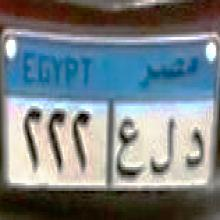2: (70, 104, 94, 178), (46, 105, 69, 177), (22, 104, 43, 176)
ain: (115, 116, 145, 185)
daal: (183, 123, 206, 180)
laam: (148, 112, 176, 186)
